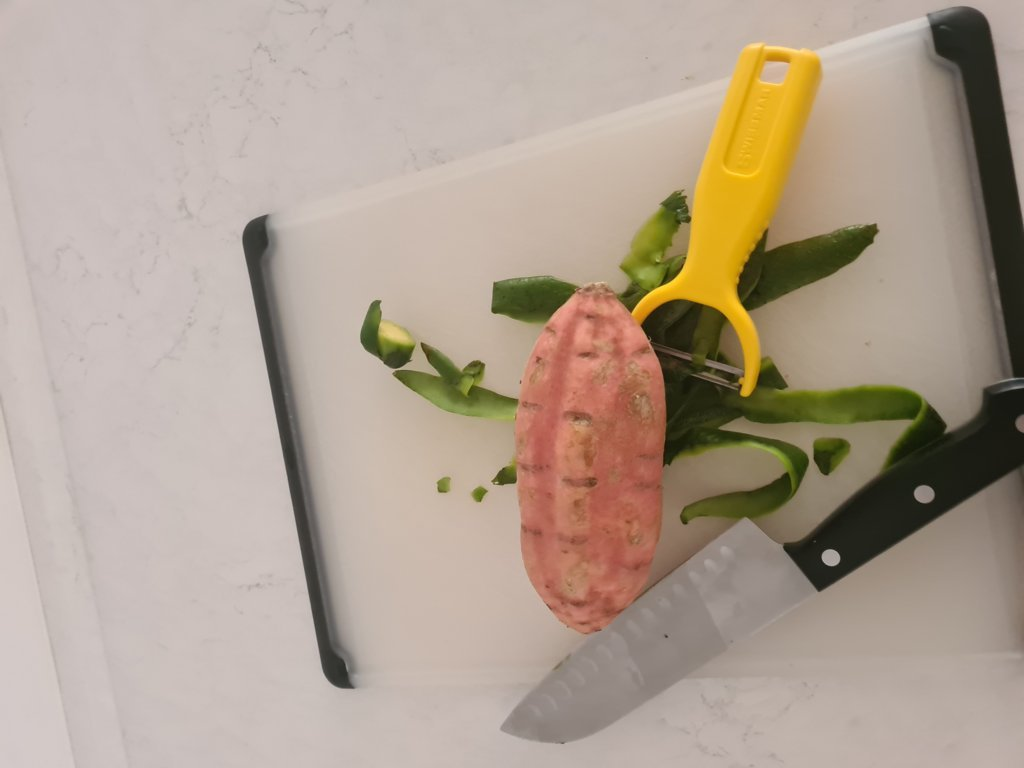Sweet Potatow: (515, 276, 667, 628)
